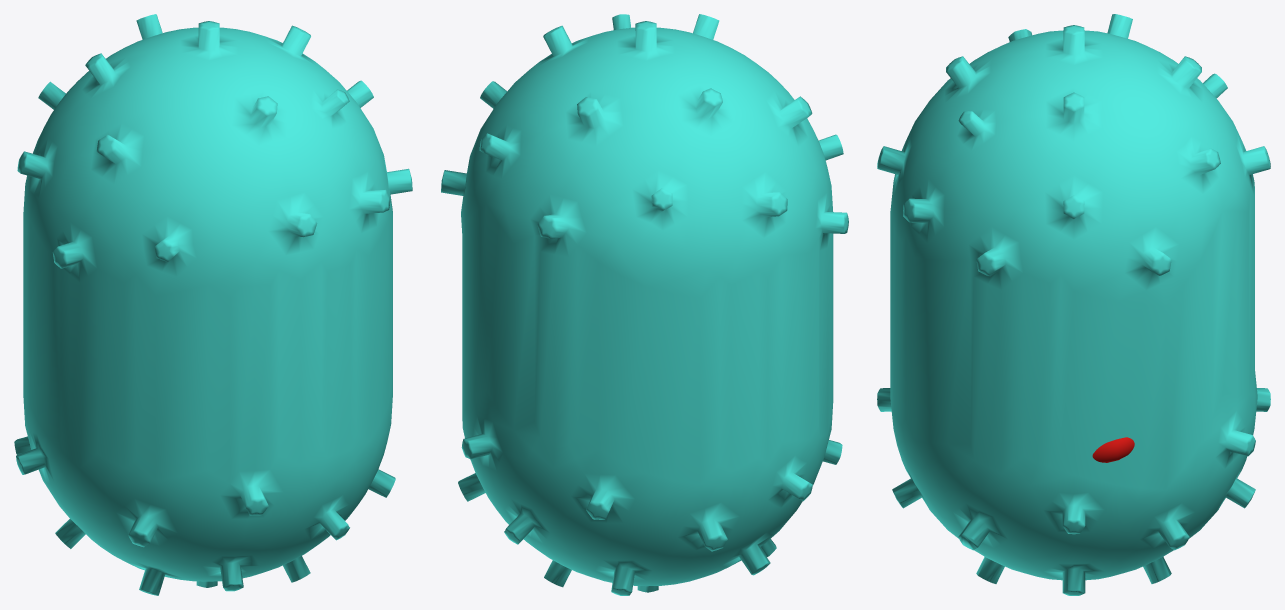
Rendered from LFTransformado.fbx.
3 renders of one model, left to right at view 1: azimuth 30°, elevation 25°; view 2: azimuth 150°, elevation 25°; view 3: azimuth 270°, elevation 25°, orthographic.
Parts seen in each view (by area): view 1: Exterior; view 2: Exterior; view 3: Exterior, Espiral.
Part boxes in pixels (x1=…): Exterior: x1=14, y1=14, x2=412, y2=595; Exterior: x1=441, y1=14, x2=848, y2=595; Exterior: x1=877, y1=14, x2=1270, y2=595; Espiral: x1=1092, y1=437, x2=1134, y2=462.
Bounding box in the file's own units: 2.15 × 3.28 × 2.11.
